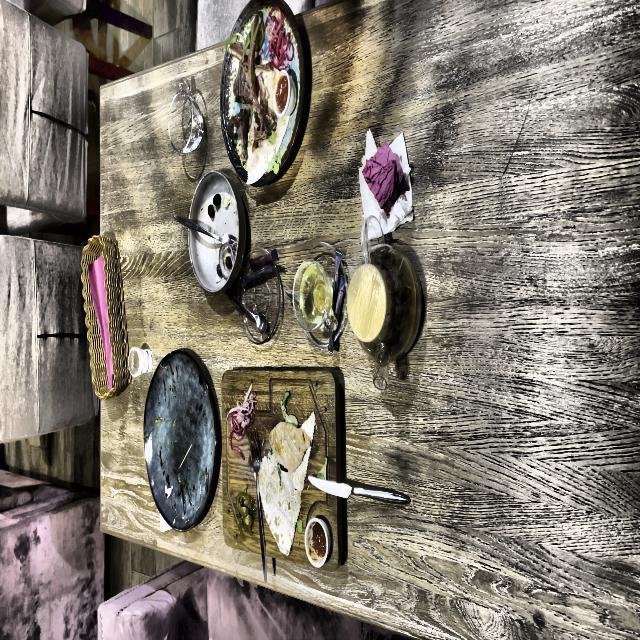empty glass saucer: (235, 246, 282, 343)
empty glass tea cup: (168, 78, 204, 155)
empty plate of greek salad: (187, 171, 248, 294)
empty plate of vegetable salad: (143, 352, 221, 526)
empty shot glass: (128, 346, 154, 378)
full glass cup of tea: (292, 258, 334, 333)
glass teapot: (346, 216, 425, 394)
pile of onions: (227, 385, 260, 461), (263, 7, 295, 72)
the chicken: (268, 421, 311, 475)
